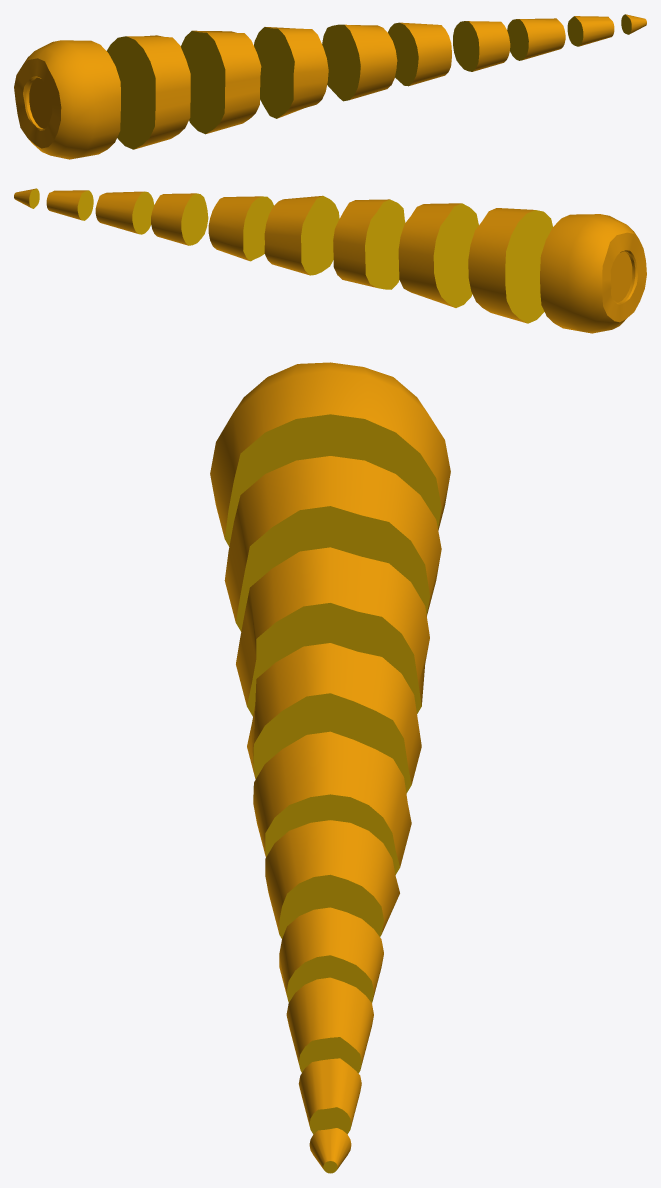
Rendered from mesh_Carrot_Stage4.fbx.
3 views of the same model, one above another, from view 1: azimuth 30°, elevation 25°; view 2: azimuth 150°, elevation 25°; view 3: azimuth 270°, elevation 25° (orthographic). The views are drawn at different scales.
Parts seen in each view (by area): view 1: mesh_carrot_stage4; view 2: mesh_carrot_stage4; view 3: mesh_carrot_stage4.
Boxes of the visible parts, left/top/right/bottom form: mesh_carrot_stage4: left=14, top=14, right=646, bottom=159; mesh_carrot_stage4: left=14, top=188, right=646, bottom=333; mesh_carrot_stage4: left=210, top=362, right=450, bottom=1173.
Bounding box in the file's own units: 0.2994 × 0.0585 × 0.051.
